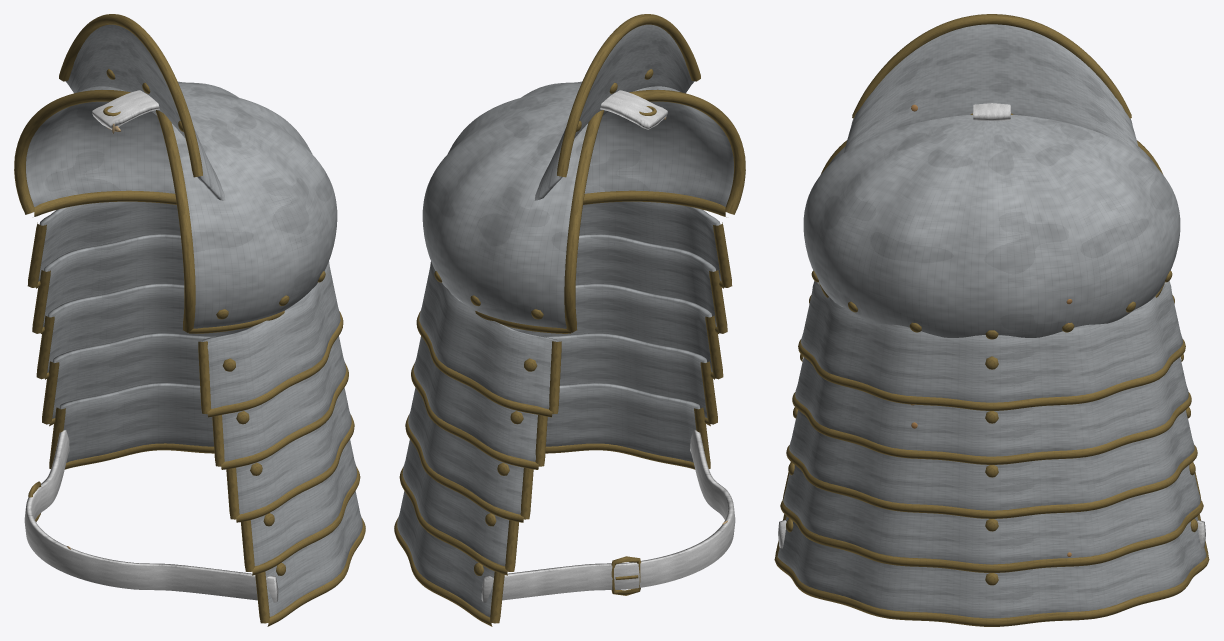
3 views of the same model, side by side, from view 1: azimuth 30°, elevation 25°; view 2: azimuth 150°, elevation 25°; view 3: azimuth 270°, elevation 25° (orthographic).
Parts seen in each view (by area): view 1: polished fluted plate, aged alloy edge, oiled strap leather; view 2: polished fluted plate, aged alloy edge, oiled strap leather; view 3: polished fluted plate, aged alloy edge, oiled strap leather.
Part boxes in pixels (x1=…): polished fluted plate: x1=26, y1=24, x2=362, y2=616; aged alloy edge: x1=14, y1=14, x2=365, y2=626; oiled strap leather: x1=24, y1=90, x2=278, y2=602; polished fluted plate: x1=397, y1=24, x2=733, y2=617; aged alloy edge: x1=394, y1=14, x2=745, y2=626; oiled strap leather: x1=481, y1=90, x2=735, y2=602; polished fluted plate: x1=777, y1=24, x2=1206, y2=618; aged alloy edge: x1=774, y1=14, x2=1209, y2=626; oiled strap leather: x1=778, y1=103, x2=1205, y2=548.
Size of the model in its own units: 0.202 by 0.3528 by 0.2597.
5 materials, 3 textured.
